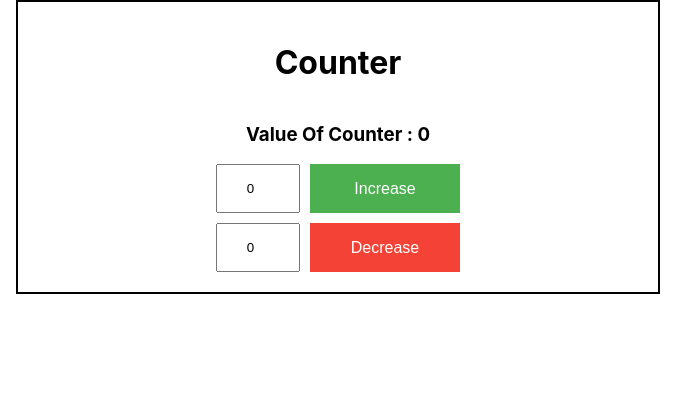
Test: template spec › should increase the counter when the increase button is clicked
Type "5" into the 1st number field at (258, 189), box x1=216 y1=164 x2=300 y2=213
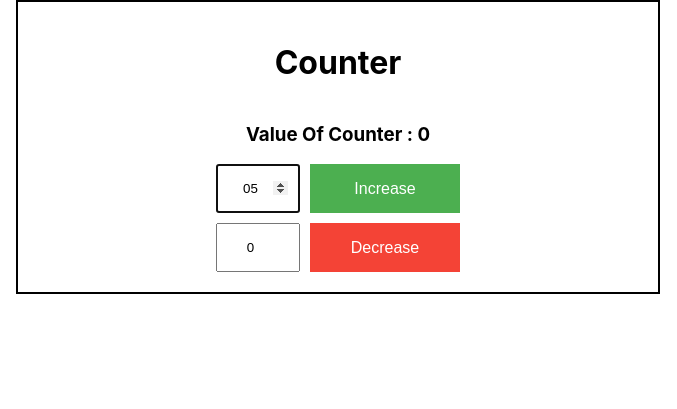
Click the button with class "button_inc" at (385, 189), box x1=310 y1=164 x2=460 y2=213
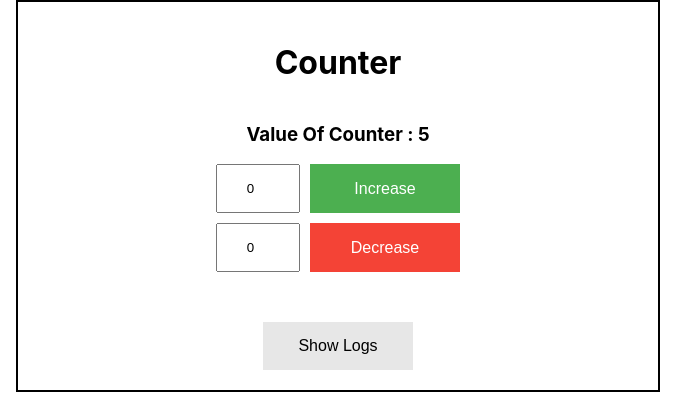
Now the heading "Value Of Counter : 5" is shown, box x1=246 y1=123 x2=430 y2=146
